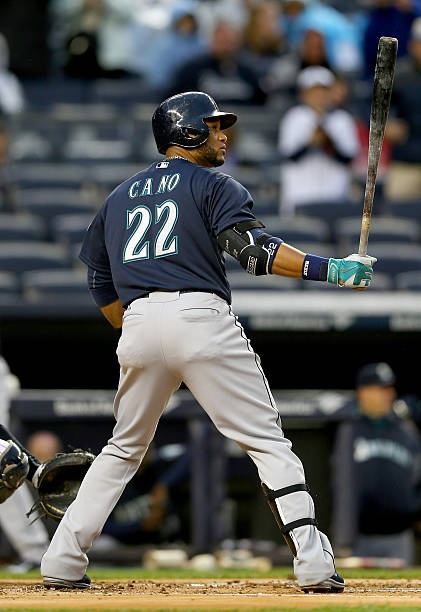bita: (351, 37, 400, 279)
